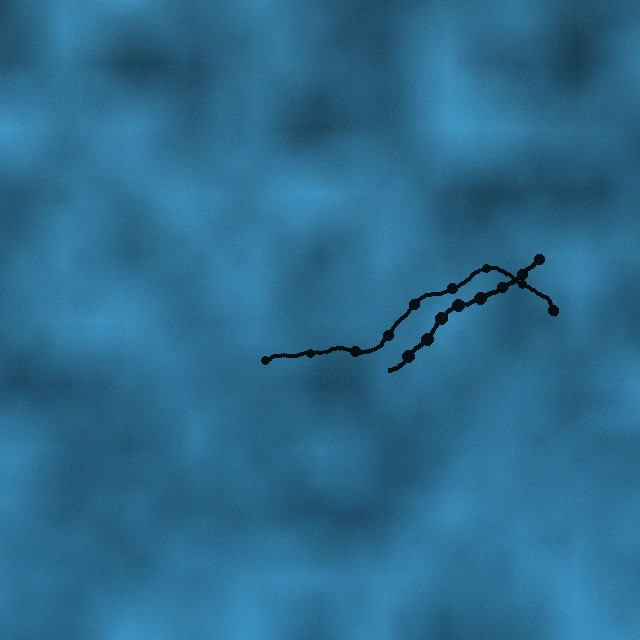crack: (259, 261, 562, 366), (381, 252, 546, 377)
